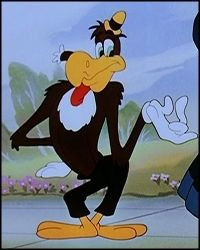urubu: (10, 3, 196, 241)
